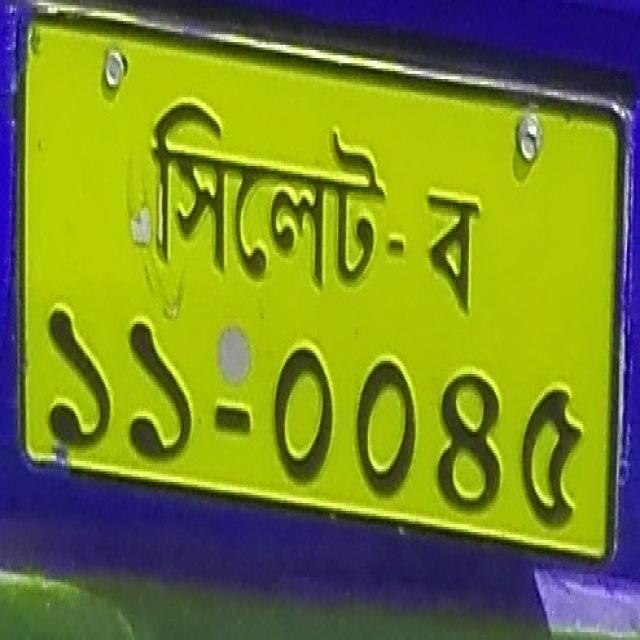numberplate: (11, 7, 628, 568)
